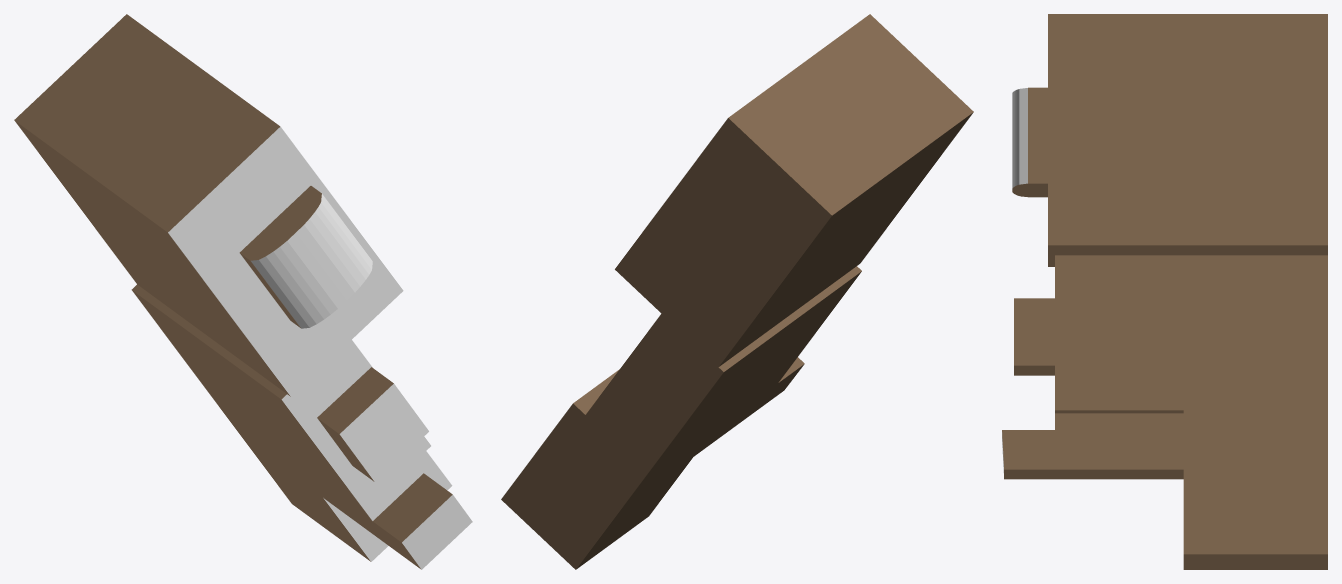
The picture shows the model from 3 angles, left to right: view 1: azimuth 30°, elevation 25°; view 2: azimuth 150°, elevation 25°; view 3: azimuth 270°, elevation 25°; orthographic projection. The views are drawn at different scales.
Parts seen in each view (by area): view 1: City_PC-13432; view 2: City_PC-13432; view 3: City_PC-13432.
Boxes of the visible parts, bbox=[...] form: City_PC-13432: bbox=[14, 14, 472, 569]; City_PC-13432: bbox=[501, 14, 973, 569]; City_PC-13432: bbox=[1002, 14, 1327, 569].
Bounding box in the file's own units: 2024 × 2858 × 1749.
